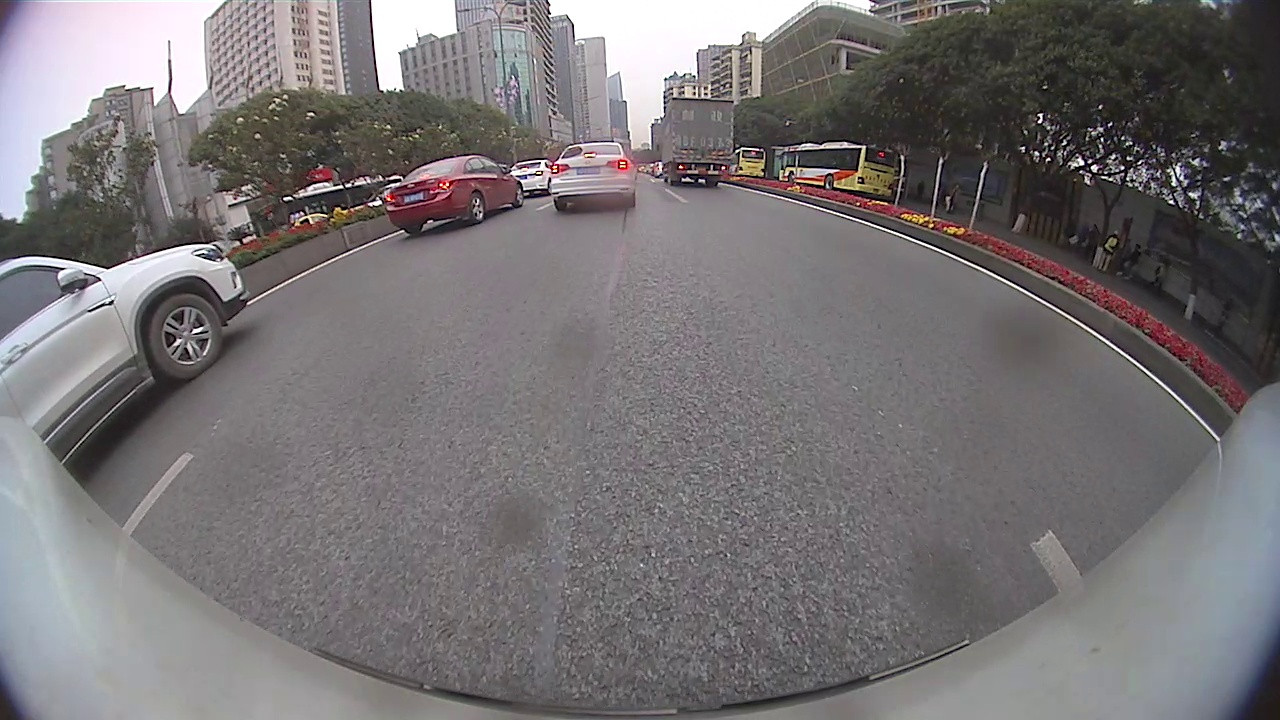bus: (279, 172, 407, 231), (780, 141, 905, 199), (735, 145, 767, 178)
car: (1, 242, 246, 471), (390, 154, 524, 238), (551, 141, 635, 213), (509, 160, 555, 198)
front: (147, 292, 224, 382), (514, 180, 525, 209)
person: (1101, 225, 1117, 274), (944, 180, 955, 210)
rear: (469, 192, 486, 225), (824, 173, 835, 191)
truck: (659, 96, 736, 188)
